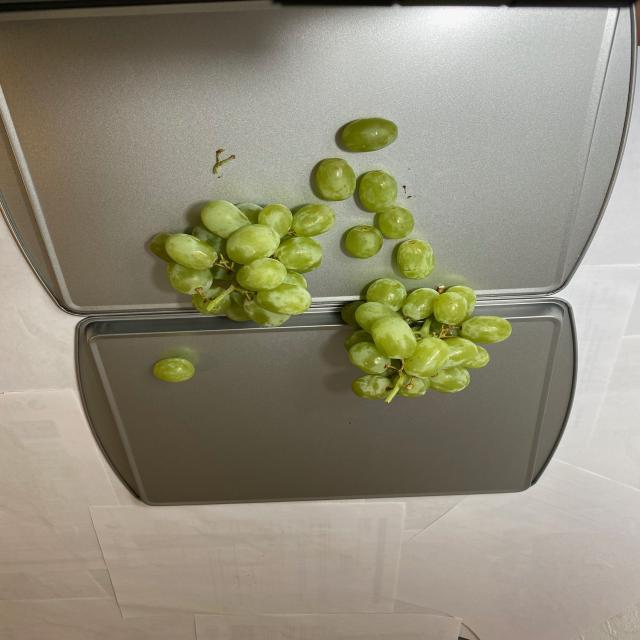grapes: (147, 112, 509, 402)
